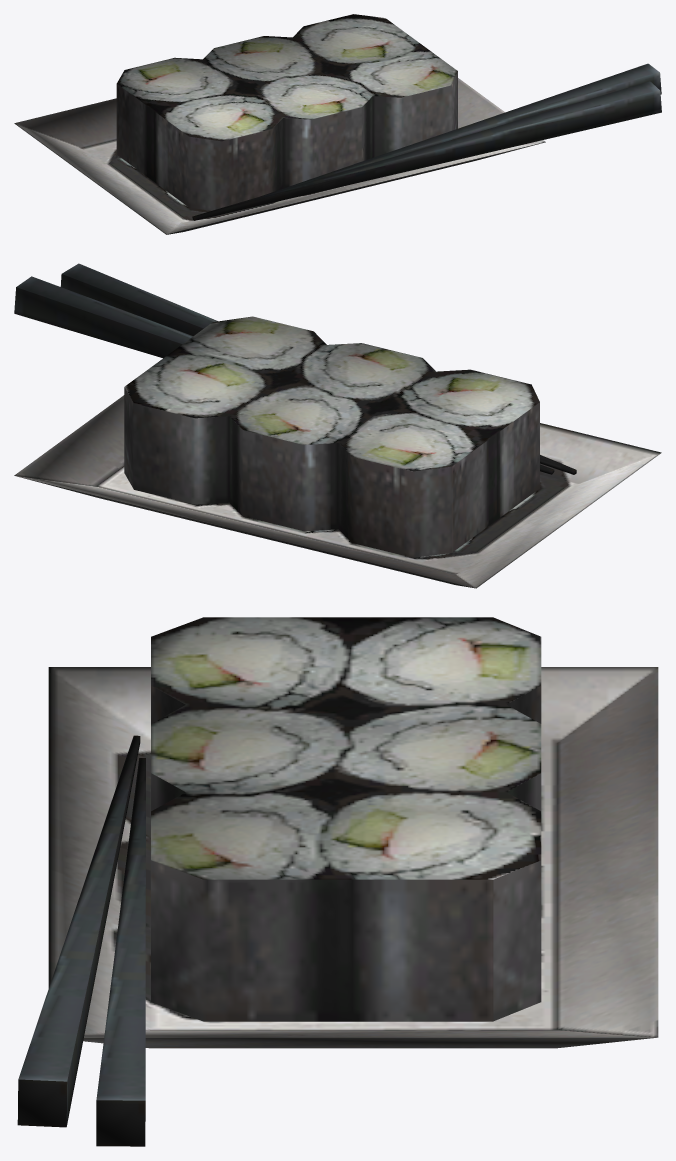
File: sushi.glb
3 renders of one model, top to bottom at view 1: azimuth 30°, elevation 25°; view 2: azimuth 150°, elevation 25°; view 3: azimuth 270°, elevation 25°, orthographic. The views are drawn at different scales.
Parts seen in each view (by area): view 1: Box05; view 2: Box05; view 3: Box05.
Boxes of the visible parts, bbox=[...] form: Box05: bbox=[14, 14, 661, 234]; Box05: bbox=[14, 263, 661, 588]; Box05: bbox=[17, 617, 658, 1146].
Size of the model in its own units: 16.12 by 2.46 by 8.8.
1 material, 1 textured.
